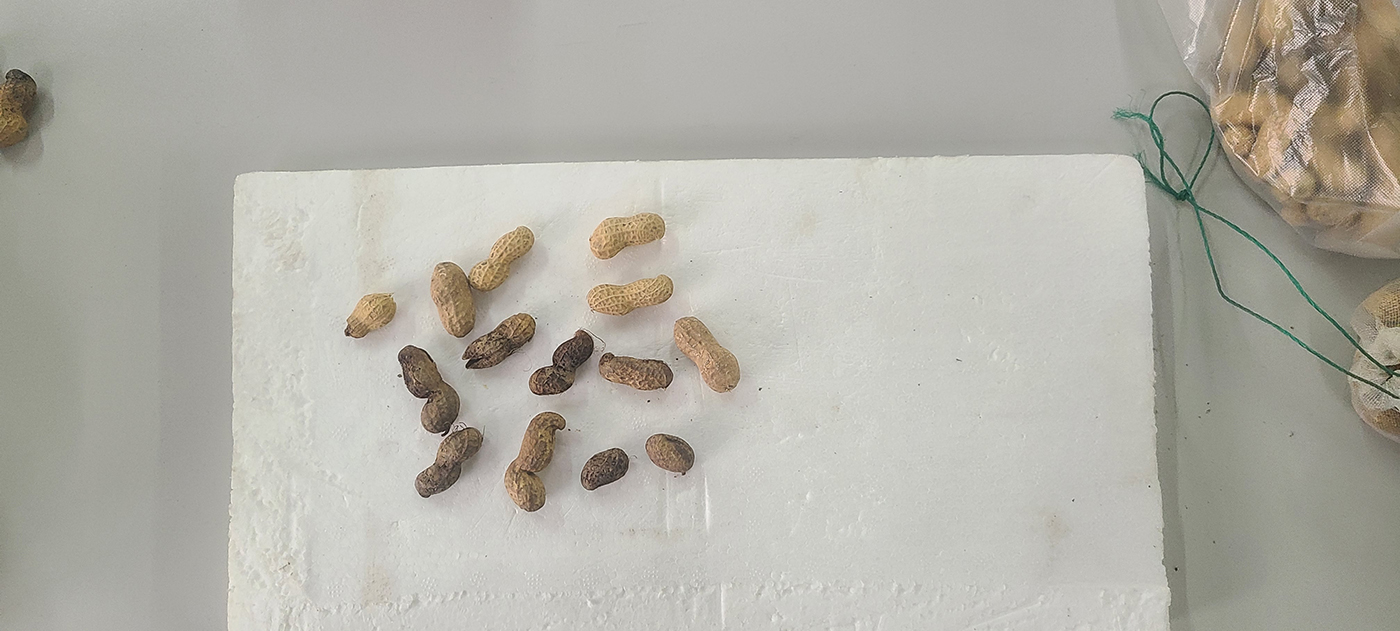h: (674, 316, 740, 393), (469, 224, 535, 292), (589, 213, 665, 261), (588, 275, 674, 316), (430, 260, 475, 338), (343, 293, 396, 339)
l: (503, 411, 568, 512), (398, 344, 460, 433), (415, 427, 484, 499), (529, 328, 594, 395), (462, 314, 536, 369), (598, 352, 674, 389), (580, 446, 630, 490), (645, 433, 695, 473)
